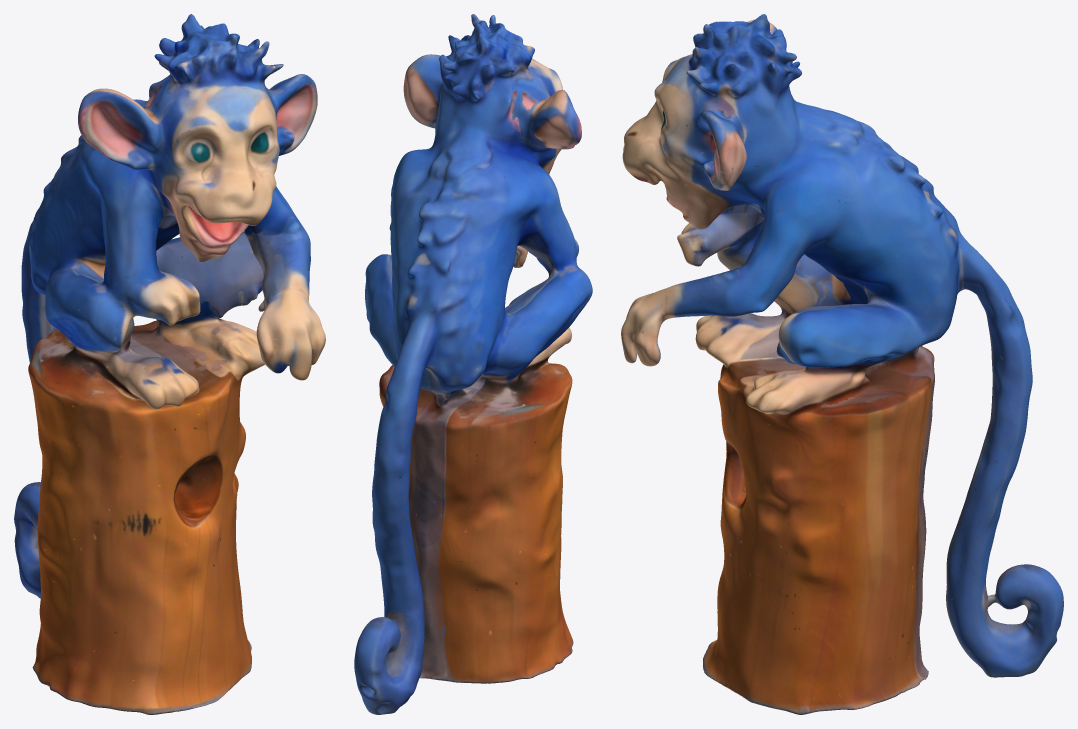
The model's file is Meshy_AI_Blue_Monkey_on_Wooden_0202193114_texture.fbx.
3 renders of one model, left to right at view 1: azimuth 30°, elevation 25°; view 2: azimuth 150°, elevation 25°; view 3: azimuth 270°, elevation 25°, orthographic. The views are drawn at different scales.
Parts seen in each view (by area): view 1: Mesh_0; view 2: Mesh_0; view 3: Mesh_0.
Boxes of the visible parts, left/top/right/bottom form: Mesh_0: left=14, top=14, right=325, bottom=714; Mesh_0: left=354, top=14, right=592, bottom=714; Mesh_0: left=621, top=14, right=1063, bottom=714.
Size of the model in its own units: 70.94 by 201 by 121.
1 material, 1 textured.
